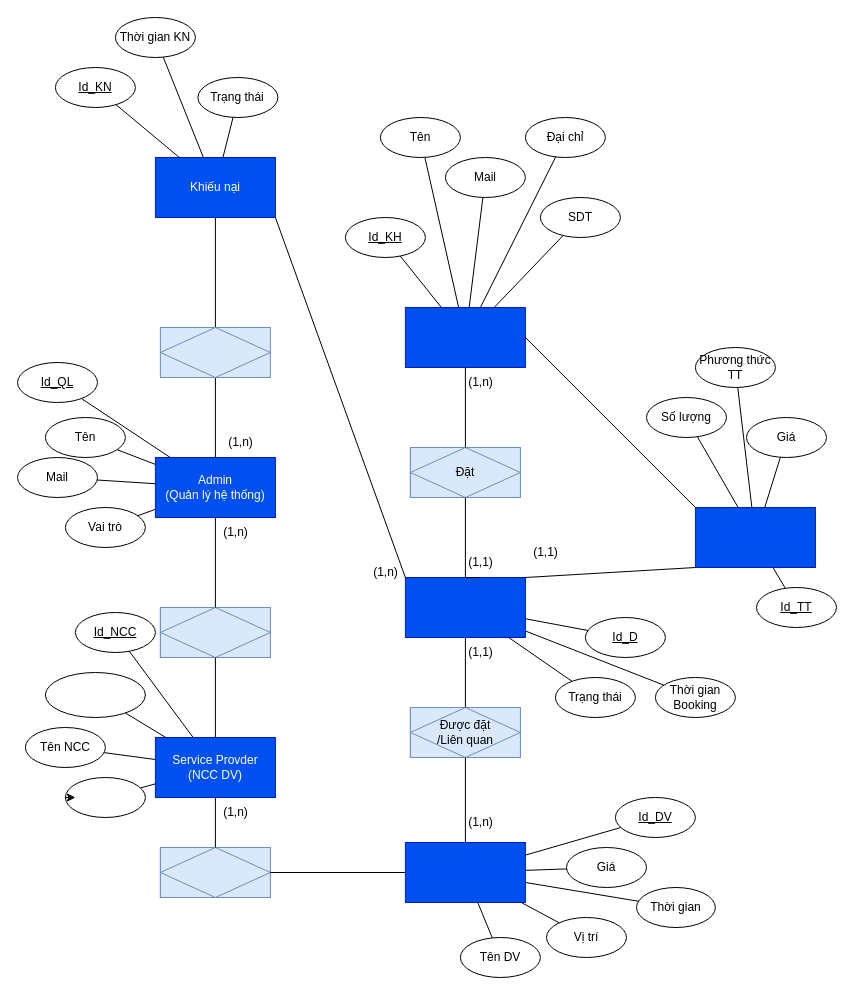
Image size: 854x995. Some labels were removed from this diagram. Each missing label, with the centre of its shape:
Booking: pixel 464 607
Cung cấp: pixel 214 872
Kiểu DV: pixel 104 797
Payment: pixel 754 537
Quản lý: pixel 214 632
Service (Dịch Vụ): pixel 464 872
Thông tin liên hệ: pixel 94 695
User (Khách Hàng): pixel 464 337
Xử lý: pixel 214 352
